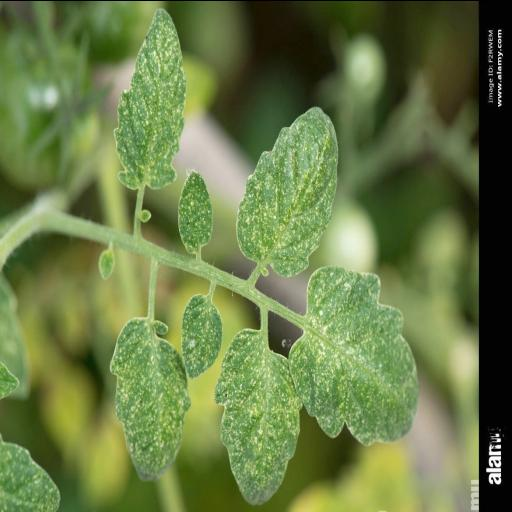Spider Mites: (289, 264, 420, 444), (236, 104, 340, 276), (214, 327, 302, 505), (112, 5, 188, 191), (110, 314, 190, 481), (180, 290, 224, 376), (177, 168, 213, 252)
